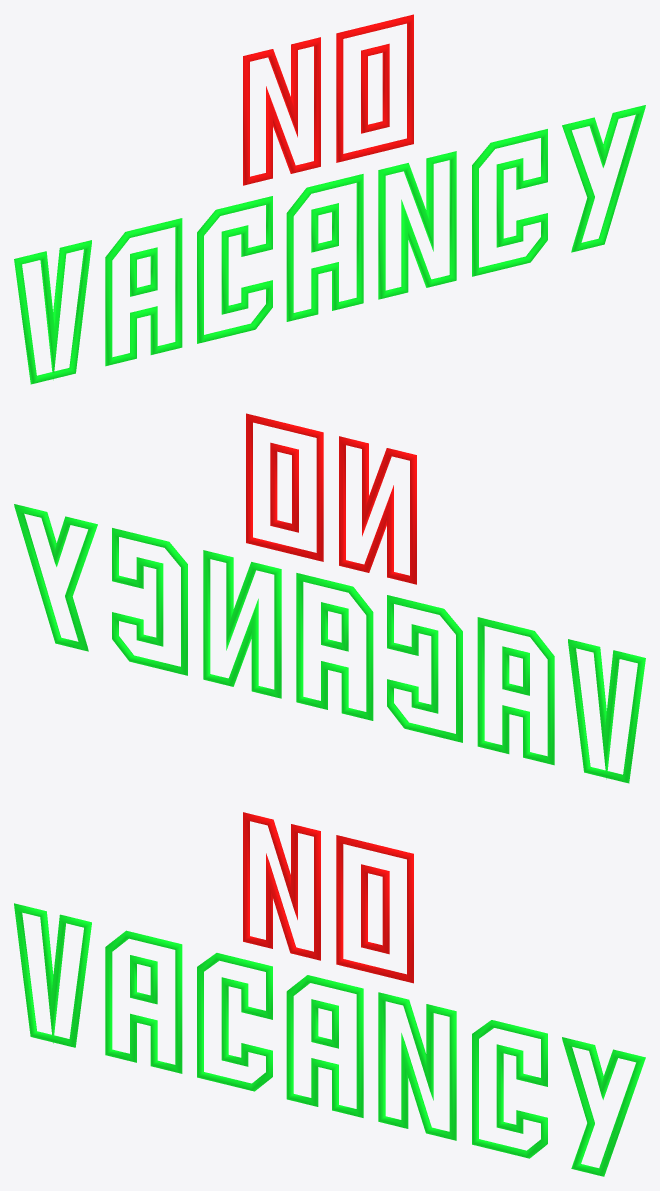
The picture shows the model from 3 angles, top to bottom: view 1: azimuth 30°, elevation 25°; view 2: azimuth 150°, elevation 25°; view 3: azimuth 330°, elevation 25°; orthographic projection.
Visible parts, largest first — view 1: NeonSignNoVacancy; view 2: NeonSignNoVacancy; view 3: NeonSignNoVacancy.
Boxes of the visible parts, <box> form: NeonSignNoVacancy: <box>14,14,645,384</box>; NeonSignNoVacancy: <box>14,413,645,783</box>; NeonSignNoVacancy: <box>14,812,645,1176</box>.
Size of the model in its own units: 1.51 by 0.637 by 0.0145.
1 material, 1 textured.
